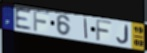6: (56, 14, 72, 36)
E: (14, 7, 33, 31)
F: (95, 19, 113, 43), (33, 9, 51, 32)
I: (84, 17, 89, 40)
J: (116, 24, 130, 45)
